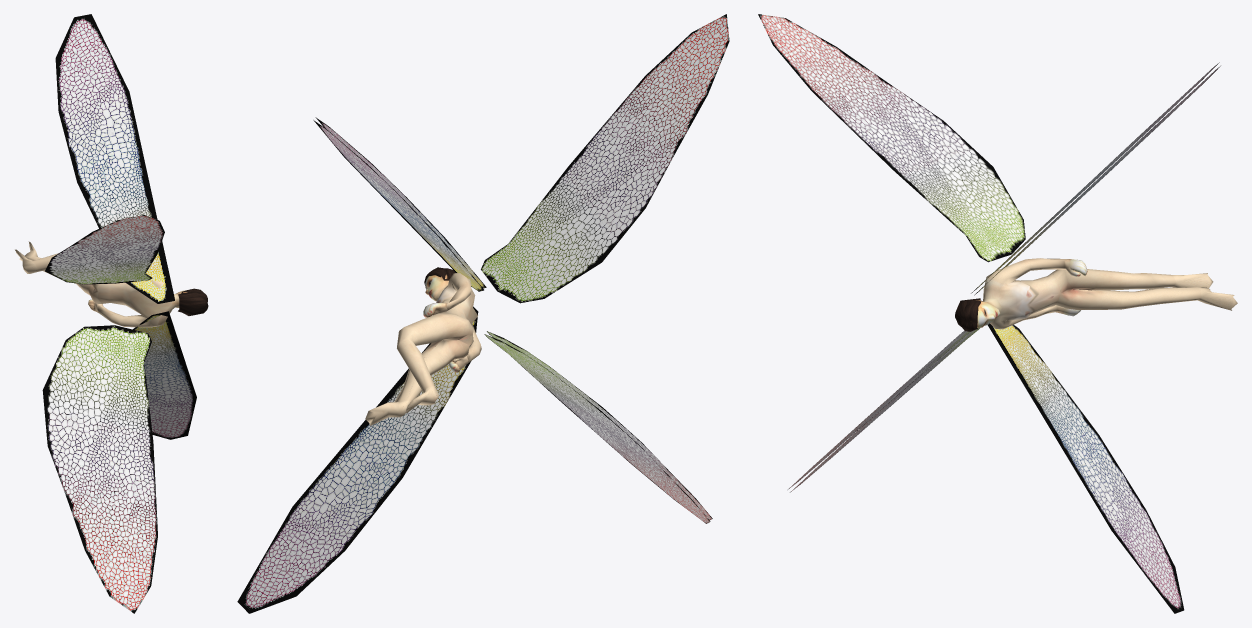
The model's file is angel_000028.obj.
3 renders of one model, left to right at view 1: azimuth 30°, elevation 25°; view 2: azimuth 150°, elevation 25°; view 3: azimuth 270°, elevation 25°, orthographic. The views are drawn at different scales.
Parts seen in each view (by area): view 1: Plane.001, Plane.003, Plane.002, Plane, body.001_omino.012, hair.003_omino.013; view 2: Plane.002, Plane, body.001_omino.012, Plane.001, Plane.003; view 3: Plane.002, Plane, body.001_omino.012, Plane.001, Plane.003, hair.003_omino.013.
Part boxes in pixels (left/top/right/bottom): Plane.001: left=42, top=325, right=157, bottom=613; Plane.003: left=55, top=14, right=174, bottom=303; Plane.002: left=45, top=215, right=164, bottom=284; Plane: left=133, top=311, right=196, bottom=439; body.001_omino.012: left=15, top=241, right=187, bottom=327; hair.003_omino.013: left=178, top=288, right=208, bottom=315; Plane.002: left=481, top=14, right=729, bottom=303; Plane: left=237, top=306, right=478, bottom=613; body.001_omino.012: left=365, top=272, right=481, bottom=425; Plane.001: left=484, top=331, right=712, bottom=523; Plane.003: left=313, top=117, right=486, bottom=291; Plane.002: left=758, top=14, right=1025, bottom=262; Plane: left=987, top=323, right=1184, bottom=613; body.001_omino.012: left=970, top=258, right=1237, bottom=329; Plane.001: left=788, top=327, right=980, bottom=492; Plane.003: left=971, top=62, right=1220, bottom=295; hair.003_omino.013: left=955, top=298, right=982, bottom=331.
Bounding box in the file's own units: 3.09 × 5.32 × 4.58.
